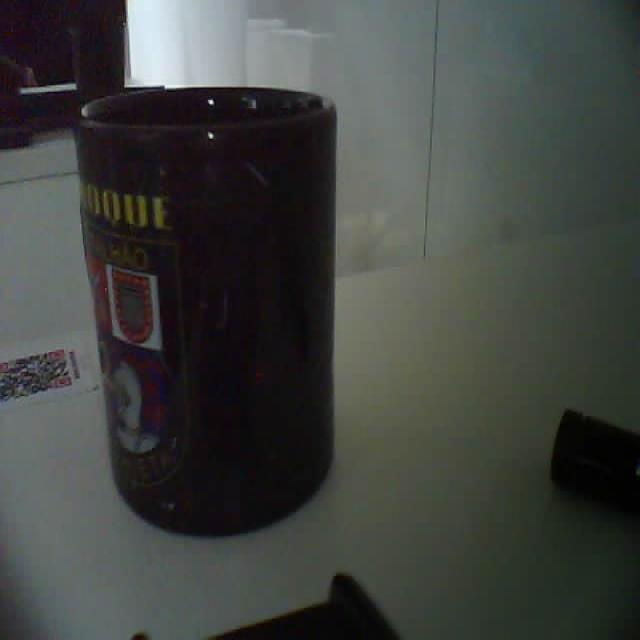caneca: (76, 88, 336, 533)
